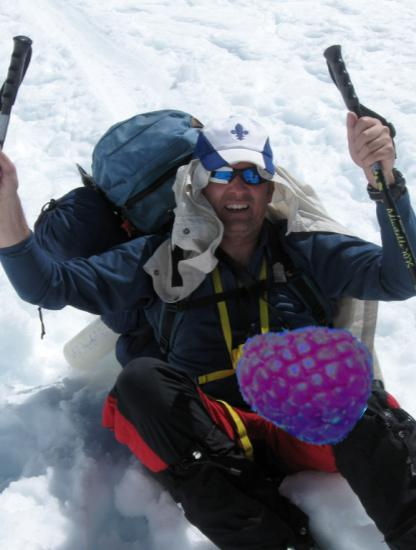Raspberry: (238, 305, 376, 443)
